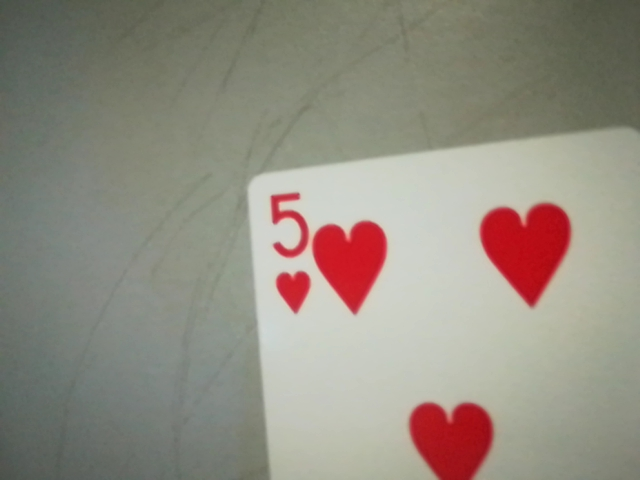hx 5: (254, 181, 315, 323)
